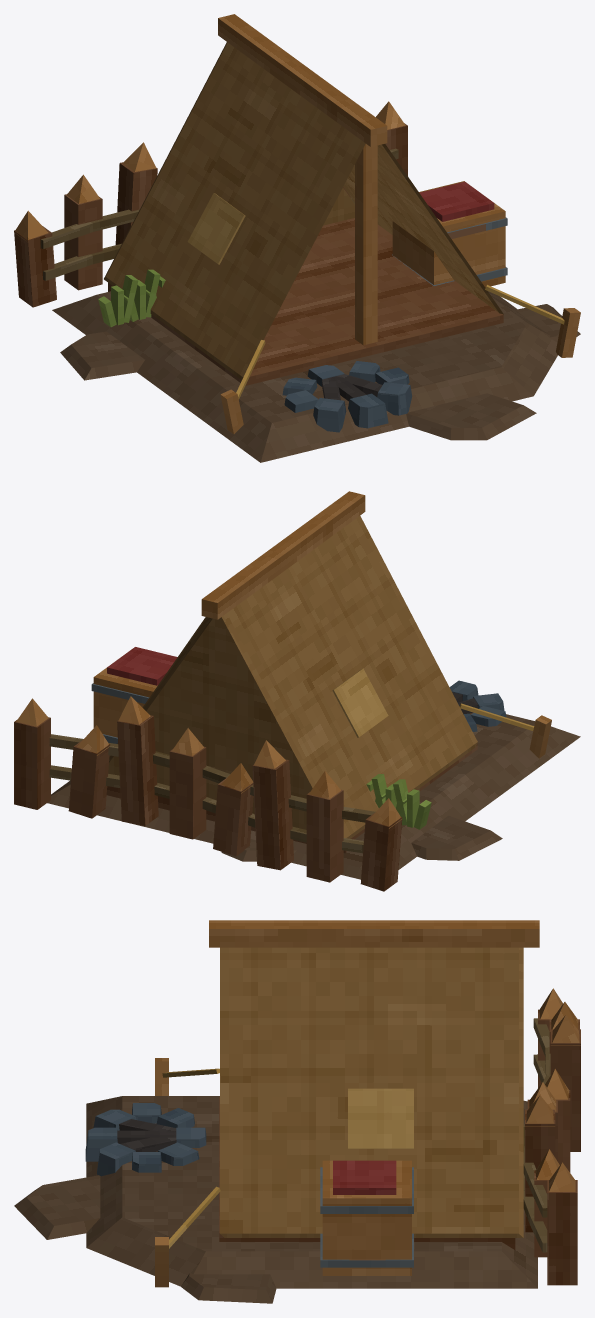
The model's file is goblin_lair_v2.glb.
3 views of the same model, one above another, from view 1: azimuth 30°, elevation 25°; view 2: azimuth 150°, elevation 25°; view 3: azimuth 270°, elevation 25° (orthographic). The views are drawn at different scales.
Parts seen in each view (by area): view 1: Model; view 2: Model; view 3: Model.
Part boxes in pixels (left/top/right/bottom): Model: left=14, top=14, right=580, bottom=462; Model: left=14, top=491, right=580, bottom=891; Model: left=14, top=920, right=580, bottom=1303.
Bounding box in the file's own units: 1.15 × 0.6504 × 1.22.
1 material, 1 textured.
